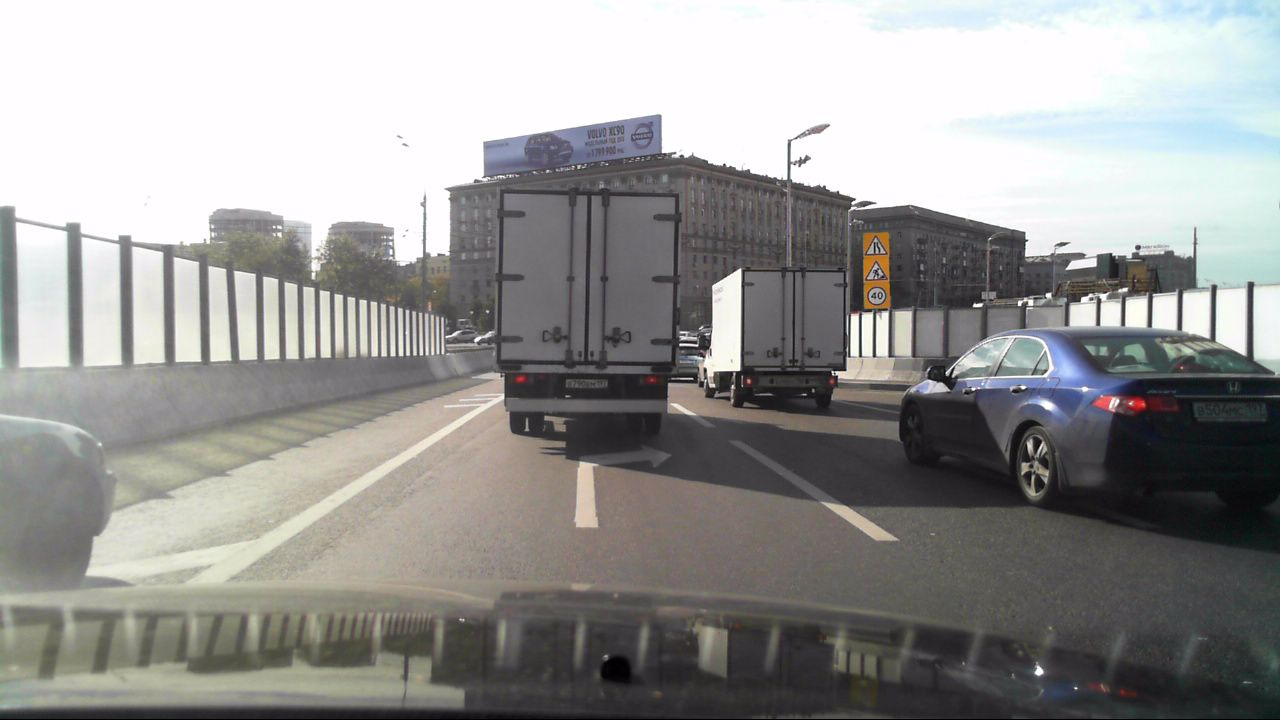speed_warning_40: (863, 283, 890, 309)
